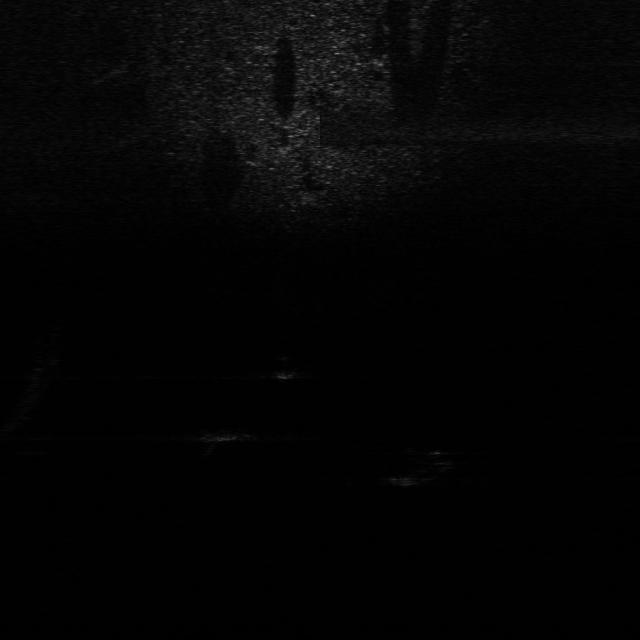ball: (262, 354, 303, 382)
square cage: (197, 423, 258, 446)
tyre: (389, 440, 462, 490)
